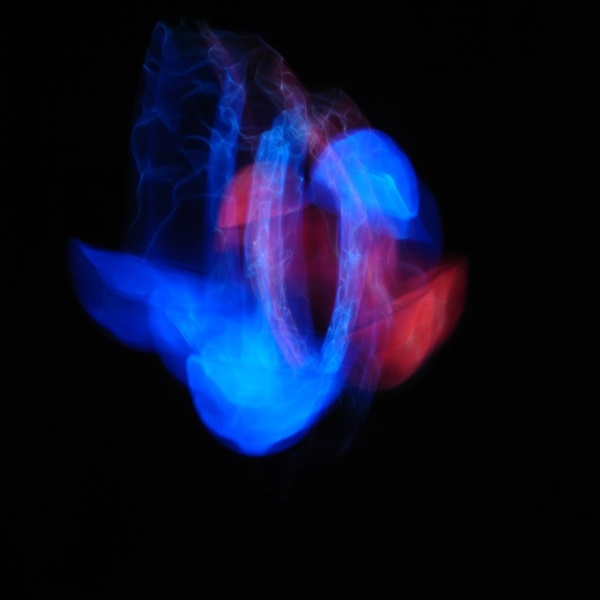Jellyfish: (59, 10, 462, 462)
